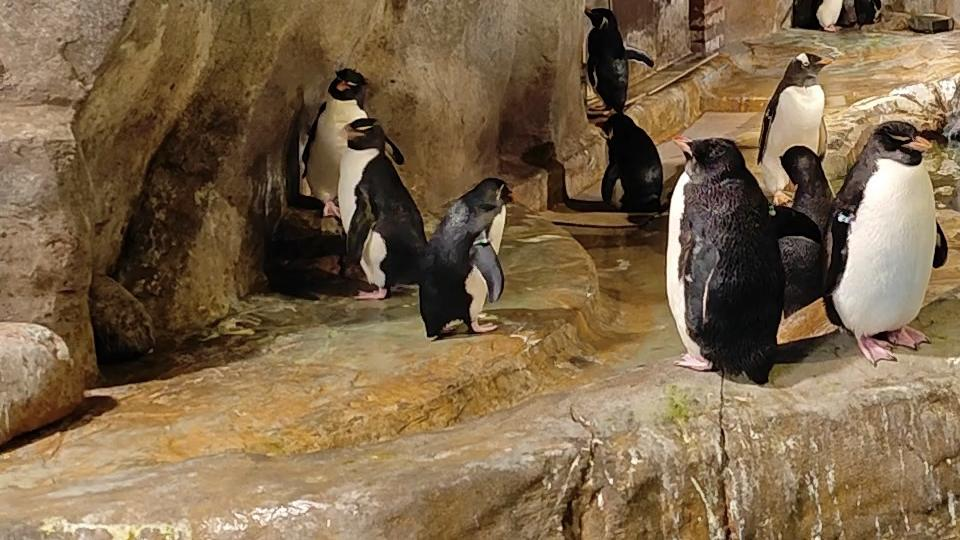Southern Rockhopper Penguin: (657, 126, 785, 392), (816, 117, 952, 365), (331, 116, 432, 304), (422, 176, 534, 341), (294, 64, 408, 218), (569, 0, 658, 122), (580, 110, 670, 221), (802, 0, 849, 35), (847, 0, 888, 28)
